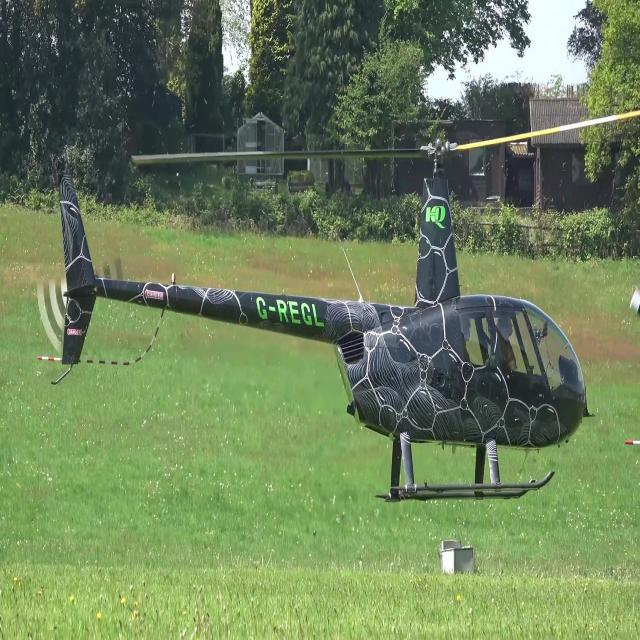CIV_HELO: (54, 139, 592, 508)
